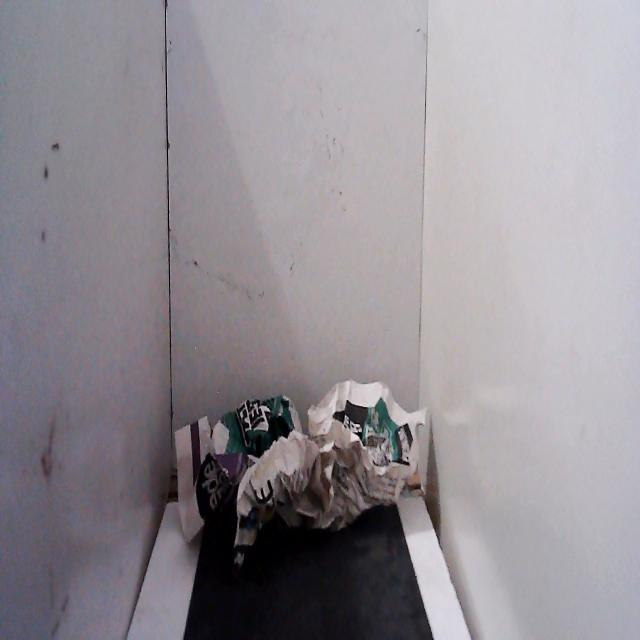papel: (170, 368, 432, 575)
